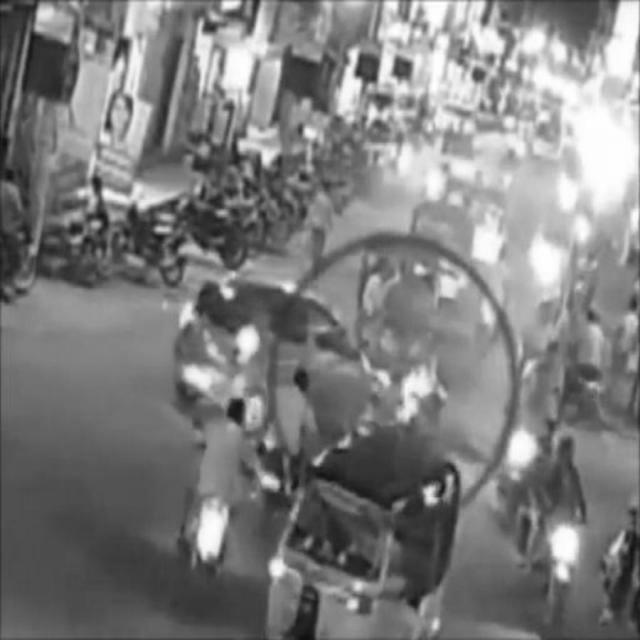accident: (173, 284, 446, 435)
vehicle: (266, 439, 462, 639), (183, 396, 254, 591), (360, 241, 440, 352)
